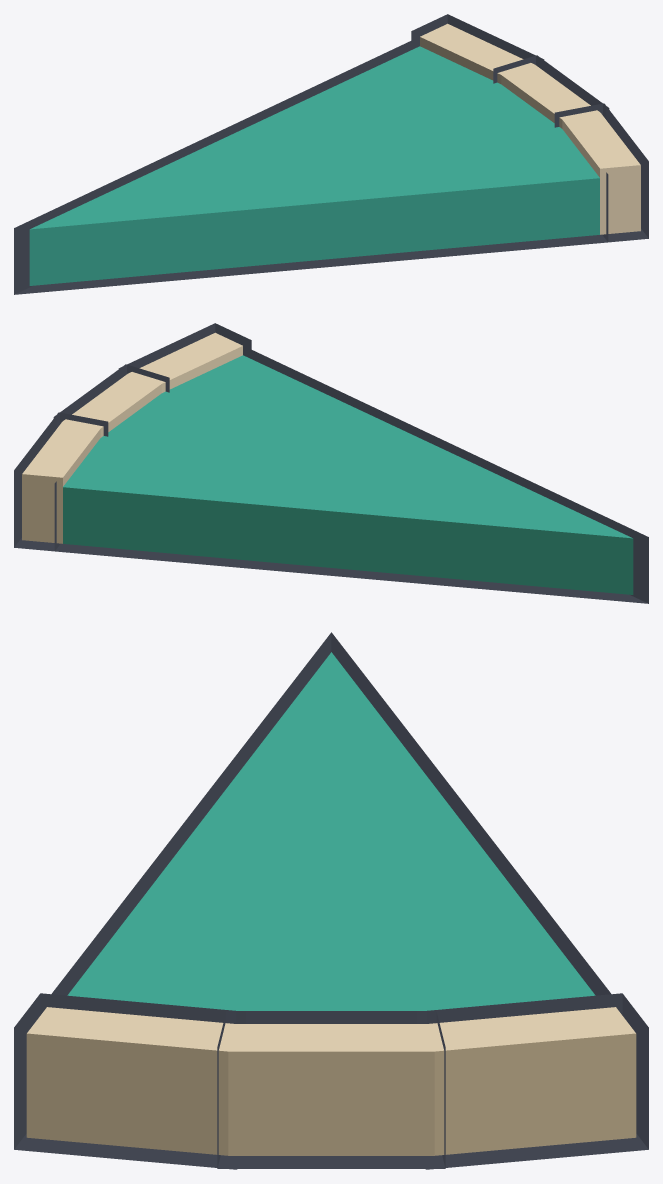
File: pie_slice_10.glb
The picture shows the model from 3 angles, top to bottom: view 1: azimuth 30°, elevation 25°; view 2: azimuth 150°, elevation 25°; view 3: azimuth 270°, elevation 25°; orthographic projection. The views are drawn at different scales.
Visible parts, largest first — view 1: slice, ink_outline; view 2: slice, ink_outline; view 3: slice, ink_outline.
Boxes of the visible parts, x1=… form: slice: x1=29, y1=23, x2=640, y2=285; ink_outline: x1=14, y1=14, x2=648, y2=294; slice: x1=22, y1=332, x2=633, y2=594; ink_outline: x1=14, y1=323, x2=648, y2=603; slice: x1=26, y1=652, x2=636, y2=1155; ink_outline: x1=14, y1=632, x2=648, y2=1169.
Size of the model in its own units: 0.0621 by 0.0082 by 0.0386.
